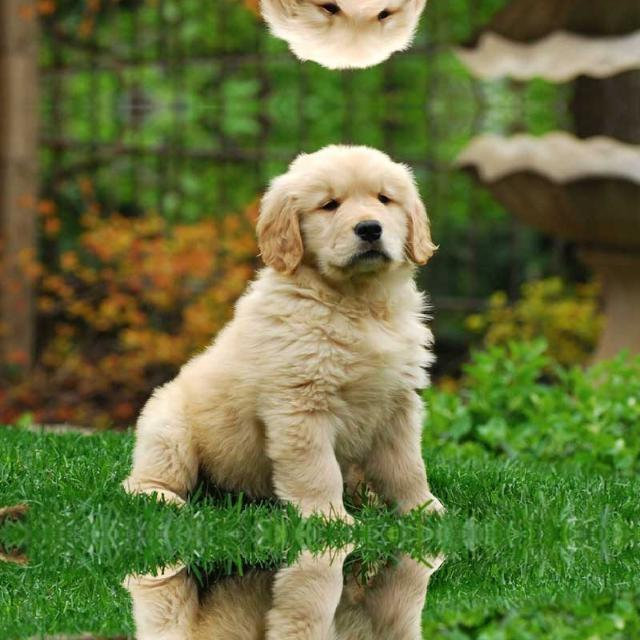dog: (130, 127, 458, 519), (129, 548, 458, 640), (129, 0, 458, 85)
